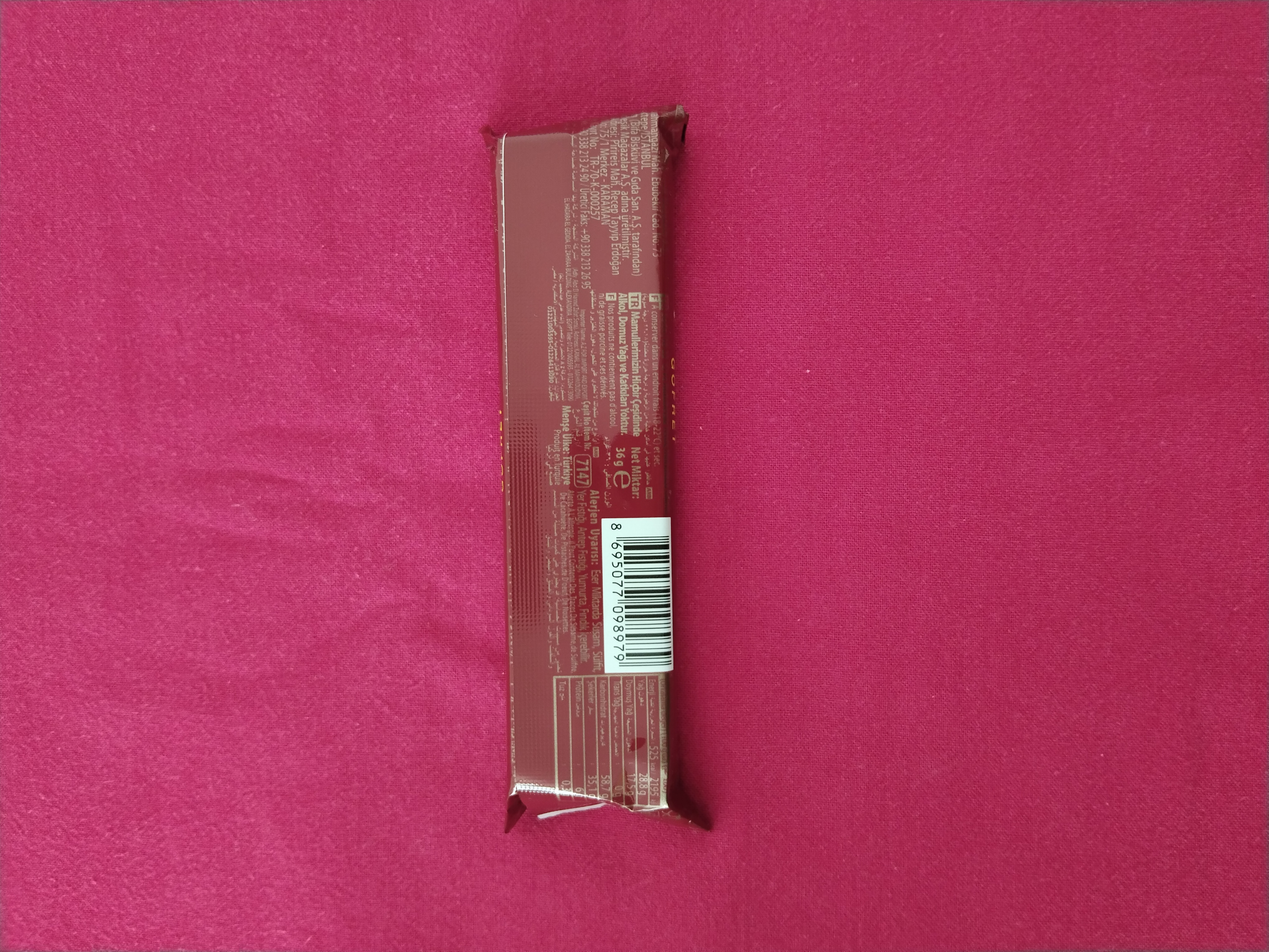centro_gofret: (499, 109, 707, 828)
